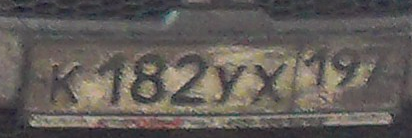character: (173, 49, 210, 108), (131, 51, 167, 107), (96, 49, 127, 111), (46, 60, 85, 109), (252, 62, 287, 105), (362, 43, 392, 92), (332, 44, 360, 93), (216, 61, 245, 106), (305, 42, 329, 93)
